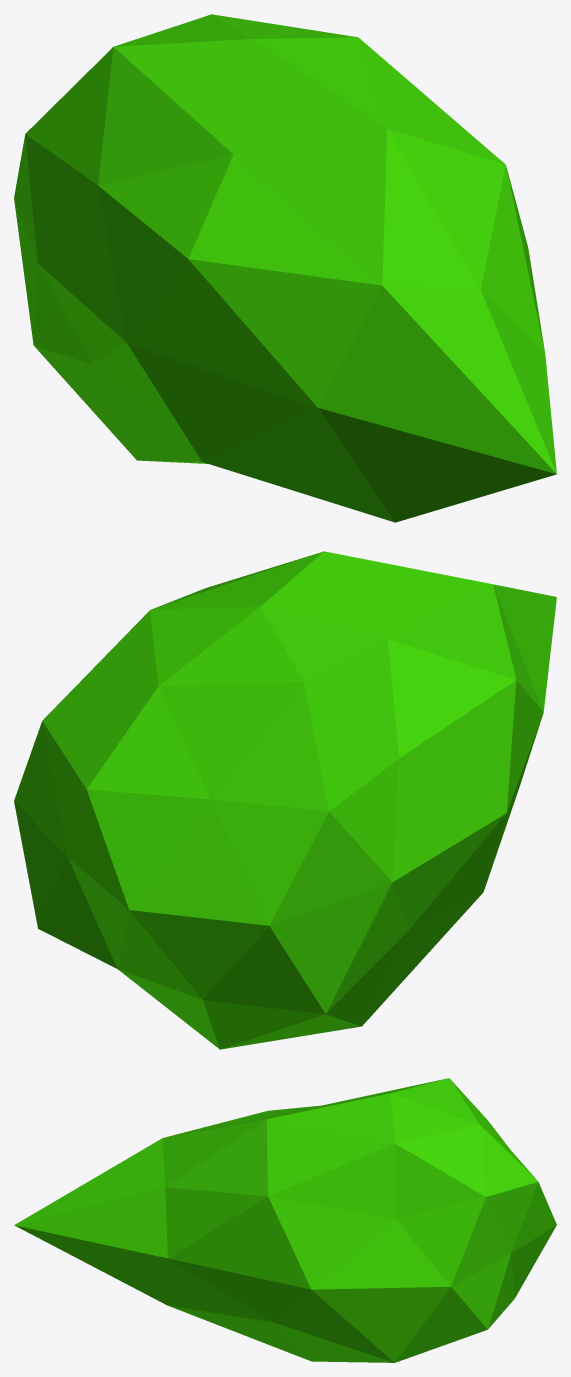
The model's file is toxic-bullet.obj.
3 views of the same model, one above another, from view 1: azimuth 30°, elevation 25°; view 2: azimuth 150°, elevation 25°; view 3: azimuth 270°, elevation 25° (orthographic). The views are drawn at different scales.
Visible parts, largest first — view 1: Icosphere.003_Icosphere.004; view 2: Icosphere.003_Icosphere.004; view 3: Icosphere.003_Icosphere.004.
Boxes of the visible parts, <box> form: Icosphere.003_Icosphere.004: <box>14,14,556,522</box>; Icosphere.003_Icosphere.004: <box>14,551,556,1049</box>; Icosphere.003_Icosphere.004: <box>14,1078,556,1362</box>.
Size of the model in its own units: 2.92 by 2.99 by 5.53.
1 material, 1 textured.
